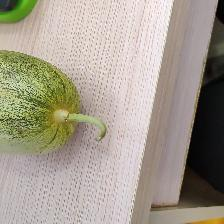gua: (7, 64, 82, 149)
